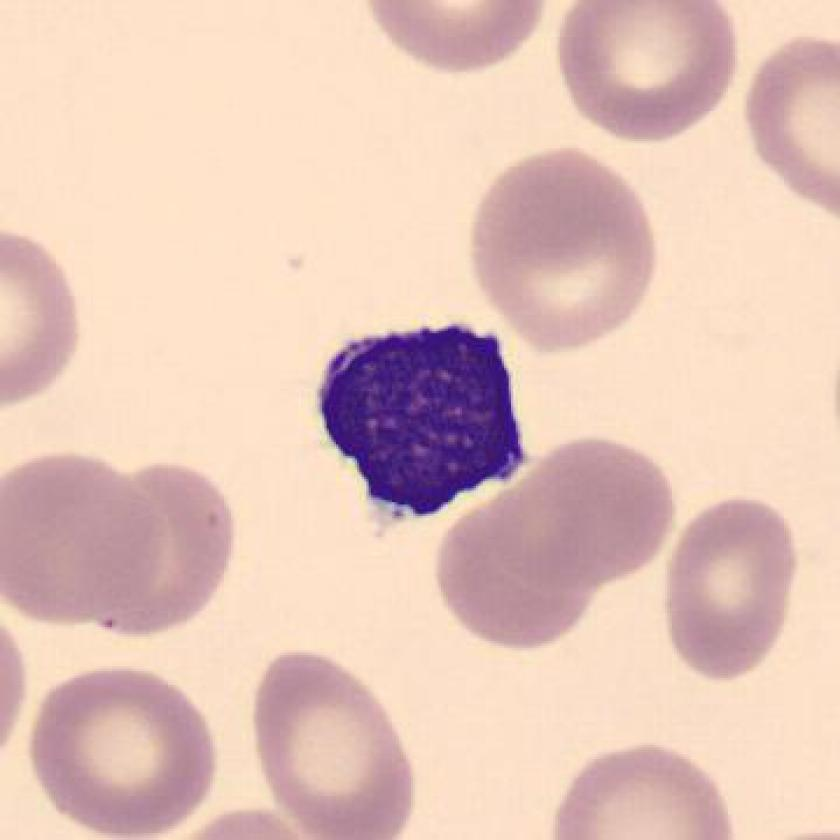lymphocyte: (302, 309, 545, 538)
